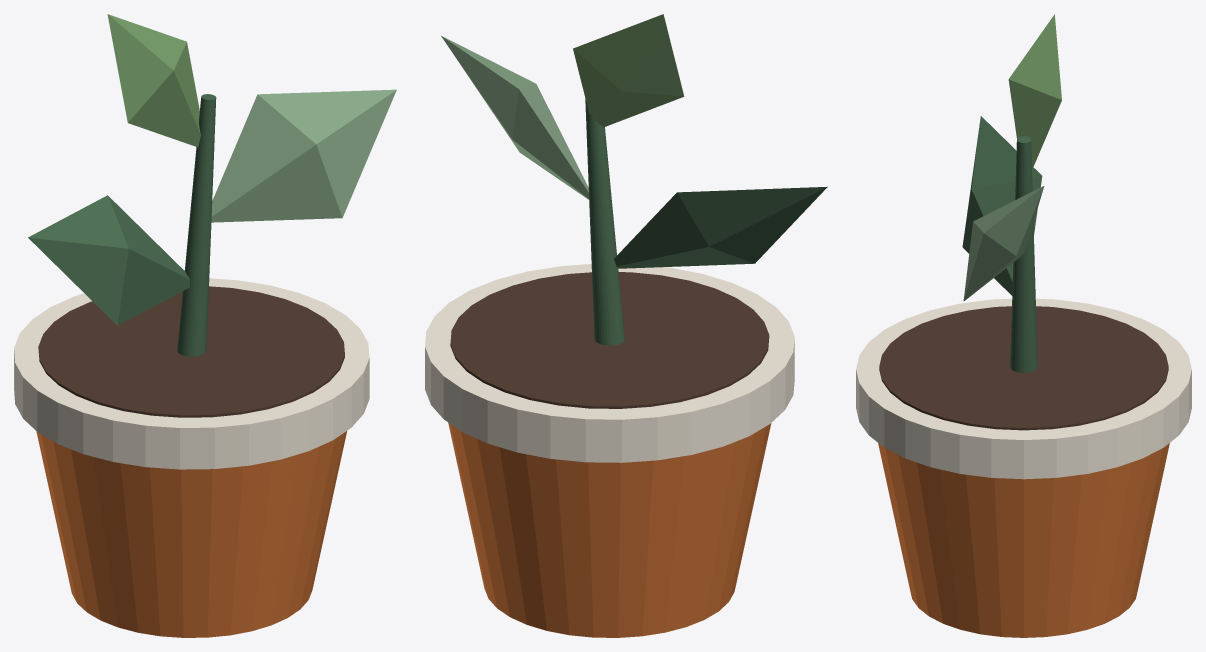
Rendered from pot.glb.
3 renders of one model, left to right at view 1: azimuth 30°, elevation 25°; view 2: azimuth 150°, elevation 25°; view 3: azimuth 270°, elevation 25°, orthographic. The views are drawn at different scales.
Parts seen in each view (by area): view 1: ceramic pot, soil, rim, leaf 2, leaf 1, leaf 3, stem; view 2: ceramic pot, soil, rim, leaf 1, leaf 3, leaf 2, stem; view 3: ceramic pot, soil, rim, leaf 3, leaf 2, leaf 1, stem.
Part boxes in pixels (x1=…): ceramic pot: x1=36, y1=431, x2=346, y2=637; soil: x1=38, y1=286, x2=344, y2=417; rim: x1=14, y1=278, x2=369, y2=469; leaf 2: x1=211, y1=89, x2=396, y2=222; leaf 1: x1=28, y1=195, x2=190, y2=325; leaf 3: x1=107, y1=14, x2=200, y2=147; stem: x1=177, y1=94, x2=216, y2=356; ceramic pot: x1=448, y1=422, x2=771, y2=637; soil: x1=450, y1=272, x2=769, y2=408; rim: x1=425, y1=264, x2=794, y2=462; leaf 1: x1=614, y1=186, x2=827, y2=268; leaf 3: x1=573, y1=14, x2=684, y2=127; leaf 2: x1=441, y1=36, x2=589, y2=199; stem: x1=585, y1=99, x2=624, y2=345; ceramic pot: x1=878, y1=443, x2=1169, y2=637; soil: x1=879, y1=306, x2=1168, y2=430; rim: x1=856, y1=298, x2=1191, y2=479; leaf 3: x1=1008, y1=14, x2=1061, y2=169; leaf 2: x1=963, y1=186, x2=1044, y2=301; leaf 1: x1=962, y1=116, x2=1042, y2=295; stem: x1=1010, y1=136, x2=1037, y2=372.
Bounding box in the file's own units: 1.31 × 1.95 × 1.09.
